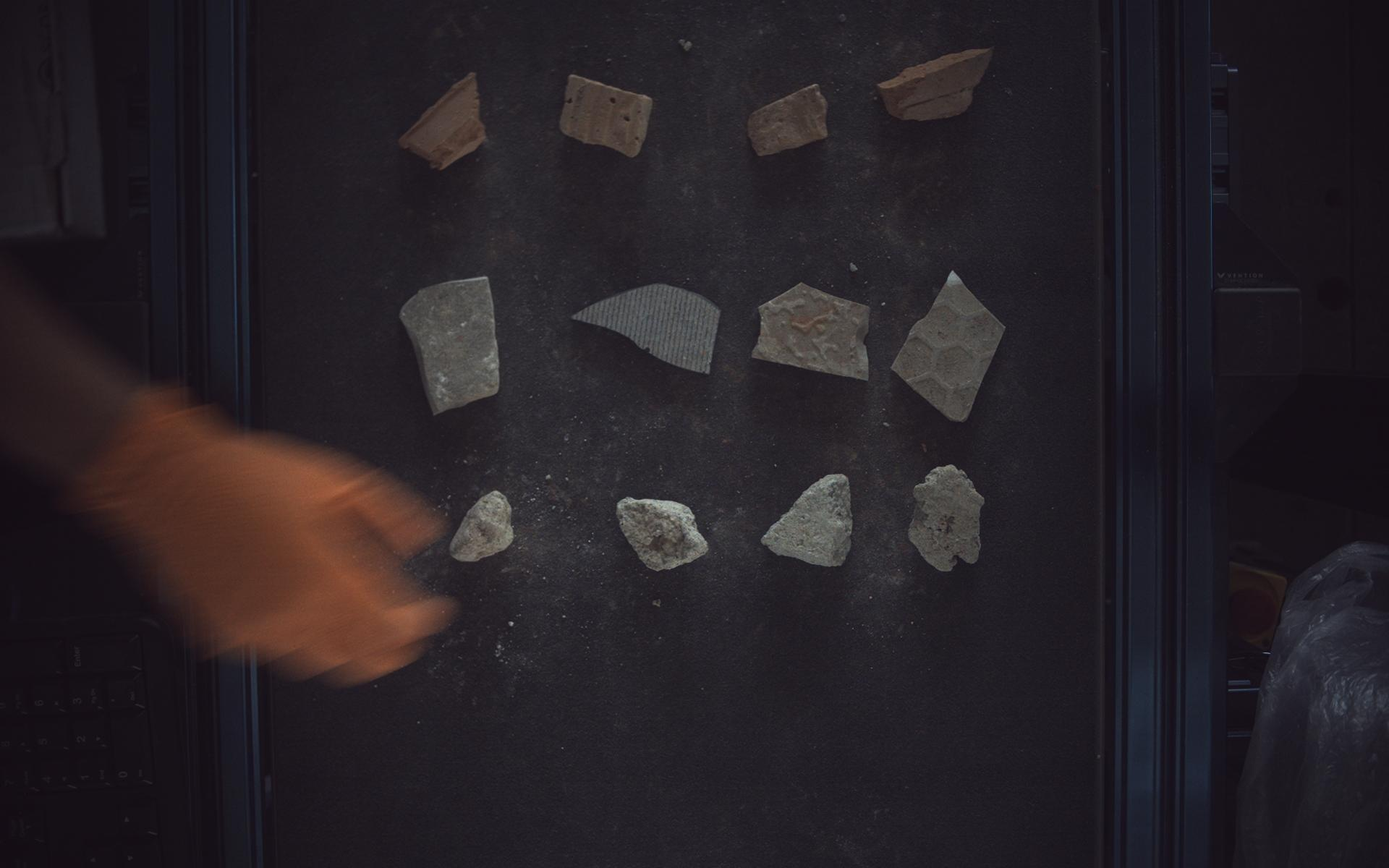brick: (399, 72, 486, 169), (880, 47, 995, 120), (560, 74, 653, 156), (748, 82, 829, 155)
concrete: (763, 475, 854, 568), (910, 465, 987, 572), (617, 498, 709, 571), (450, 491, 514, 562)
tile: (893, 270, 1007, 422), (400, 276, 499, 414), (572, 284, 721, 373), (753, 282, 872, 380)
